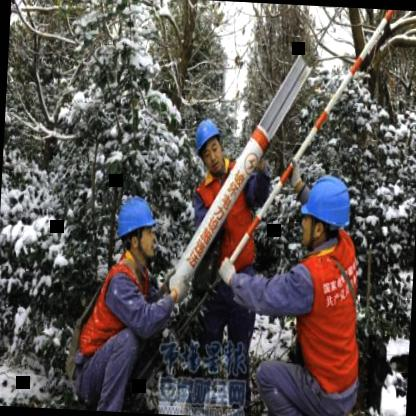helmet: (296, 168, 350, 255), (110, 189, 162, 270), (191, 114, 227, 176)
